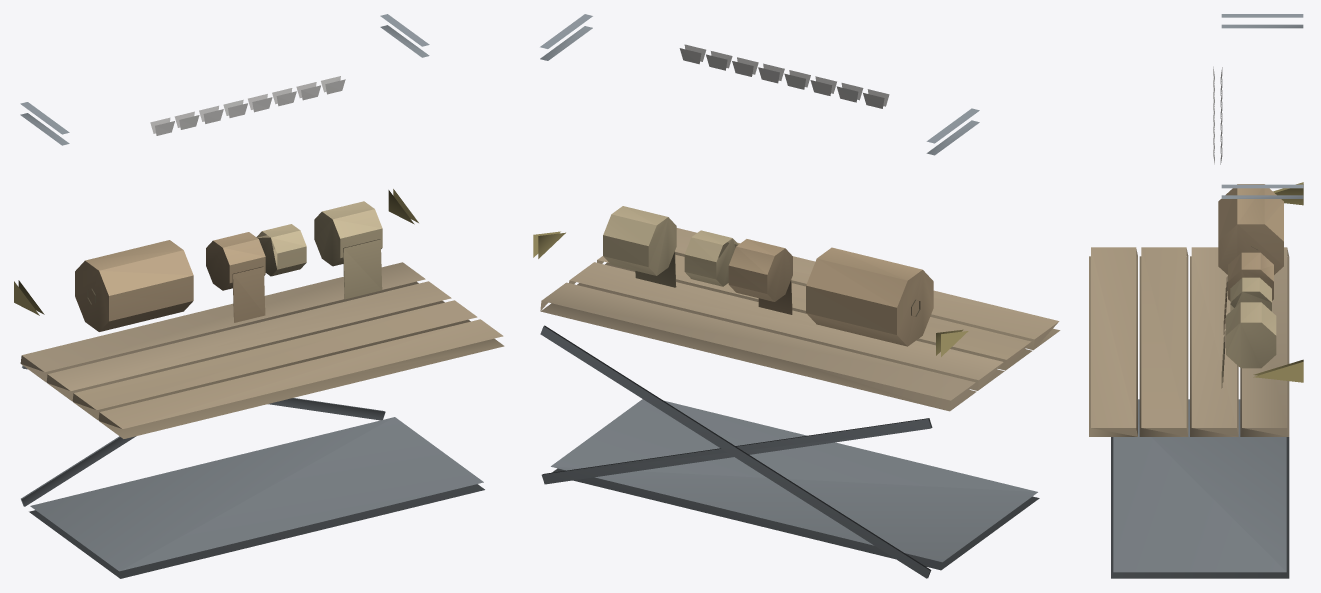
Rendered from bench.lod.glb.
3 renders of one model, left to right at view 1: azimuth 30°, elevation 25°; view 2: azimuth 150°, elevation 25°; view 3: azimuth 270°, elevation 25°, orthographic. The views are drawn at different scales.
Visible parts, largest first — view 1: bench; view 2: bench; view 3: bench.
Part boxes in pixels (x1=…): bench: x1=14, y1=14, x2=504, y2=578; bench: x1=533, y1=14, x2=1060, y2=578; bench: x1=1089, y1=14, x2=1303, y2=578.
Bounding box in the file's own units: 1.8 × 1.83 × 0.9175.
